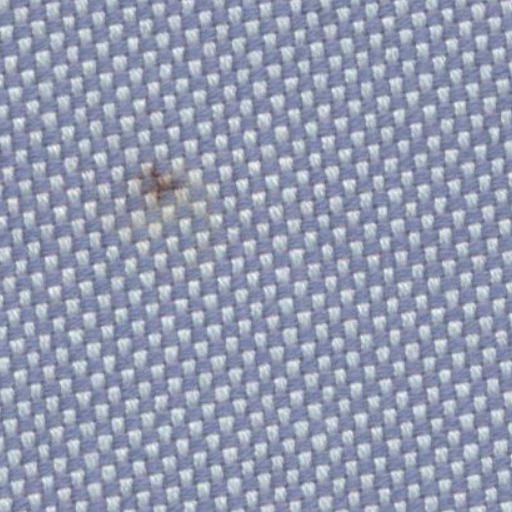WuZi: (92, 136, 232, 271)
